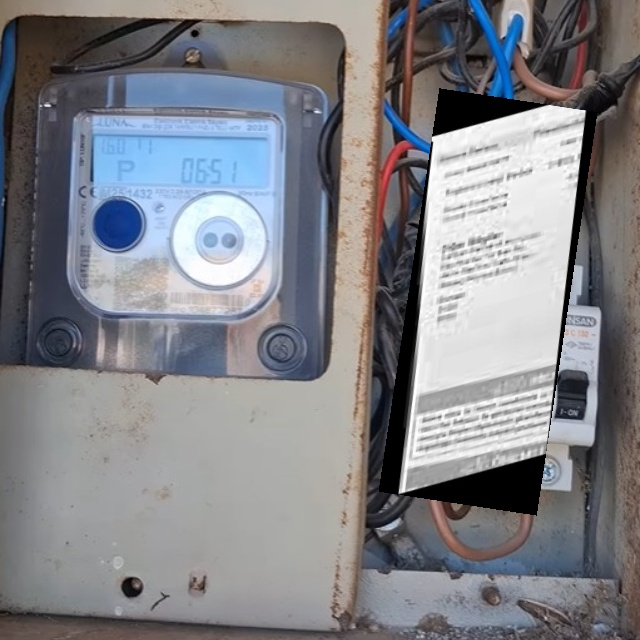electricity-bill: (379, 88, 597, 516)
